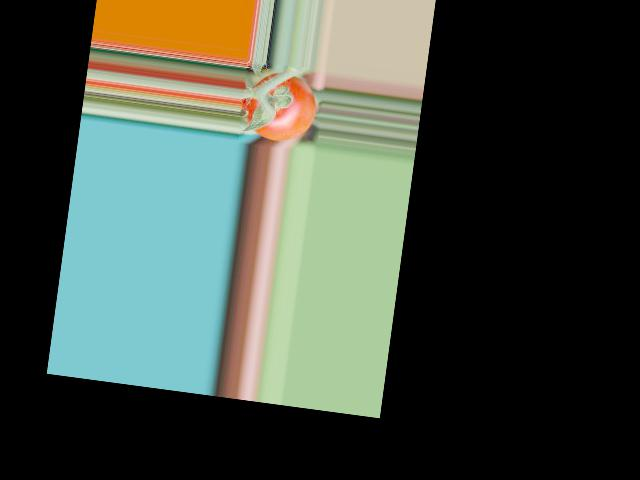tomato: (238, 68, 319, 145)
